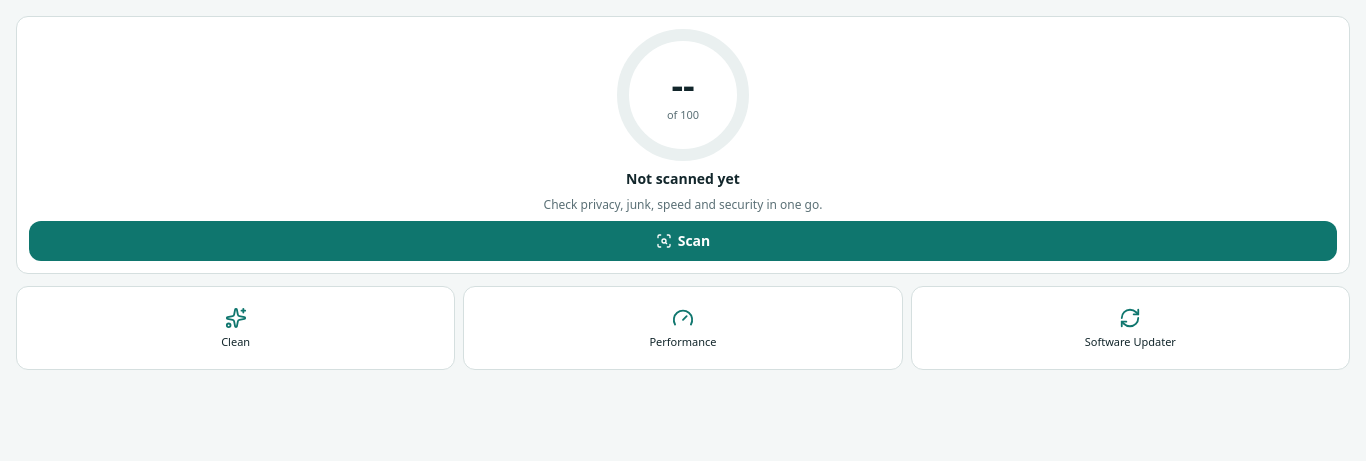
Test: Home: scanning › reports a failed scan
Click the button with test id "btn-scan" at x=683, y=241, box [29, 221, 1337, 261]
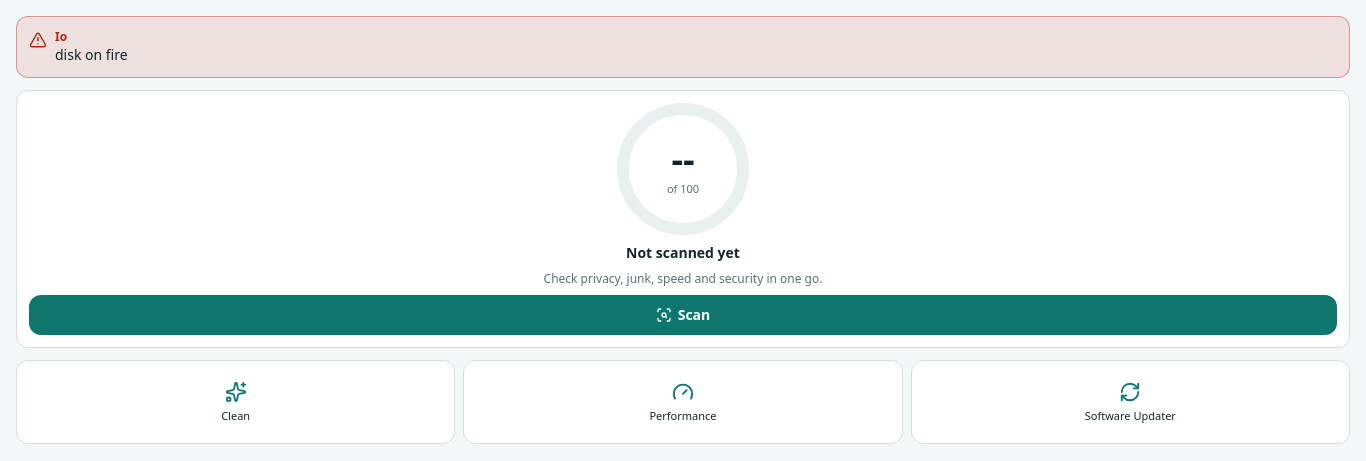
Now the message with test id "error-banner" shows "disk on fire", box [55, 45, 128, 64]
